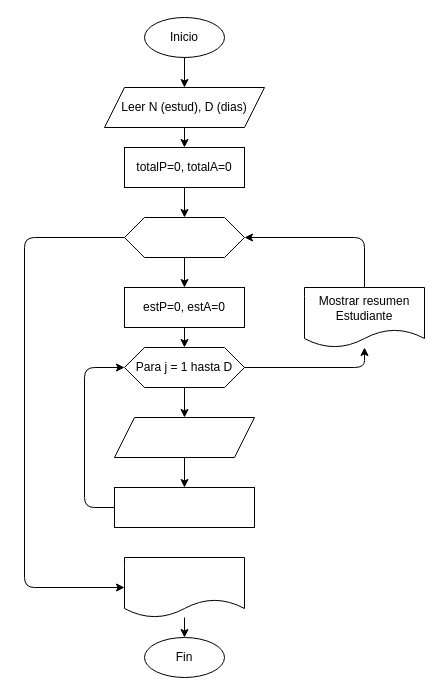
This 442x695 diagram has some shape labels left out. The centre of each missing label's shape, as x and y in pixels:
"Contar P/A estudiante Contar P/A total" goes at (x=184, y=507).
"Leer estado (P/A)" goes at (x=184, y=437).
"Mostrar Totales Curso" goes at (x=184, y=587).
"Para i = 1 hasta N" goes at (x=184, y=237).
